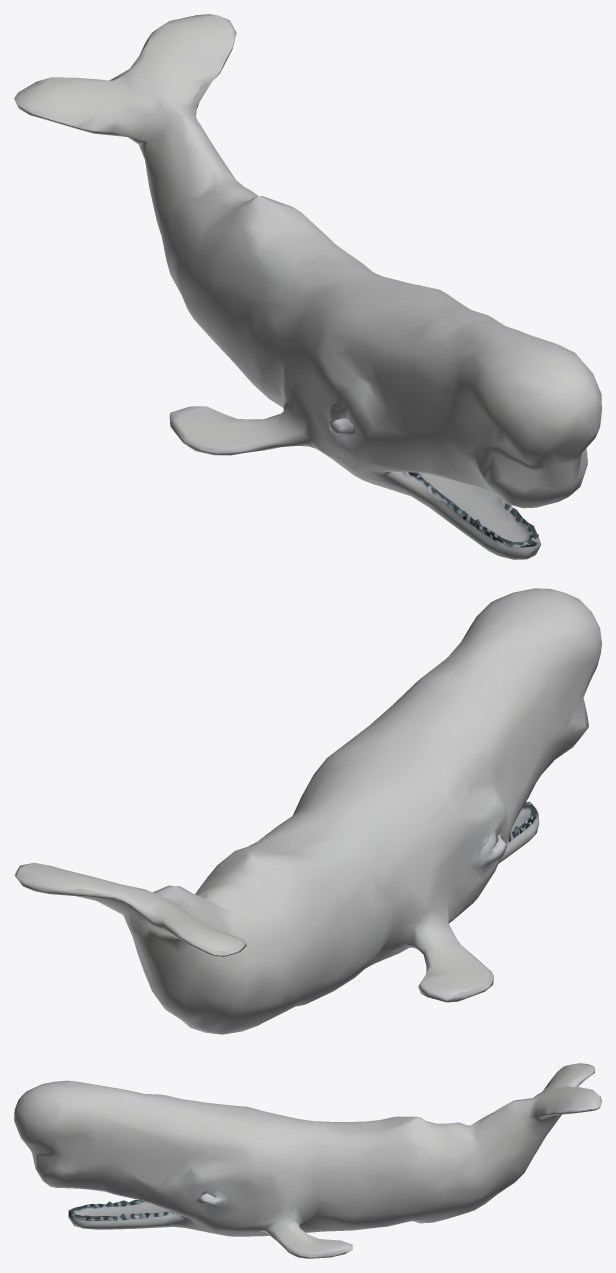
The model's file is whale-source.glb.
3 views of the same model, one above another, from view 1: azimuth 30°, elevation 25°; view 2: azimuth 150°, elevation 25°; view 3: azimuth 270°, elevation 25° (orthographic). The views are drawn at different scales.
Parts seen in each view (by area): view 1: tripo_node_1ae1940e-53e1-4814-91da-d98f85ff6564; view 2: tripo_node_1ae1940e-53e1-4814-91da-d98f85ff6564; view 3: tripo_node_1ae1940e-53e1-4814-91da-d98f85ff6564.
Part boxes in pixels (left/top/right/bottom): tripo_node_1ae1940e-53e1-4814-91da-d98f85ff6564: left=14, top=14, right=601, bottom=559; tripo_node_1ae1940e-53e1-4814-91da-d98f85ff6564: left=14, top=588, right=601, bottom=1034; tripo_node_1ae1940e-53e1-4814-91da-d98f85ff6564: left=14, top=1063, right=601, bottom=1258.
Bounding box in the file's own units: 0.3634 × 0.29 × 1.
Materials: 1 (1 with a texture image).
